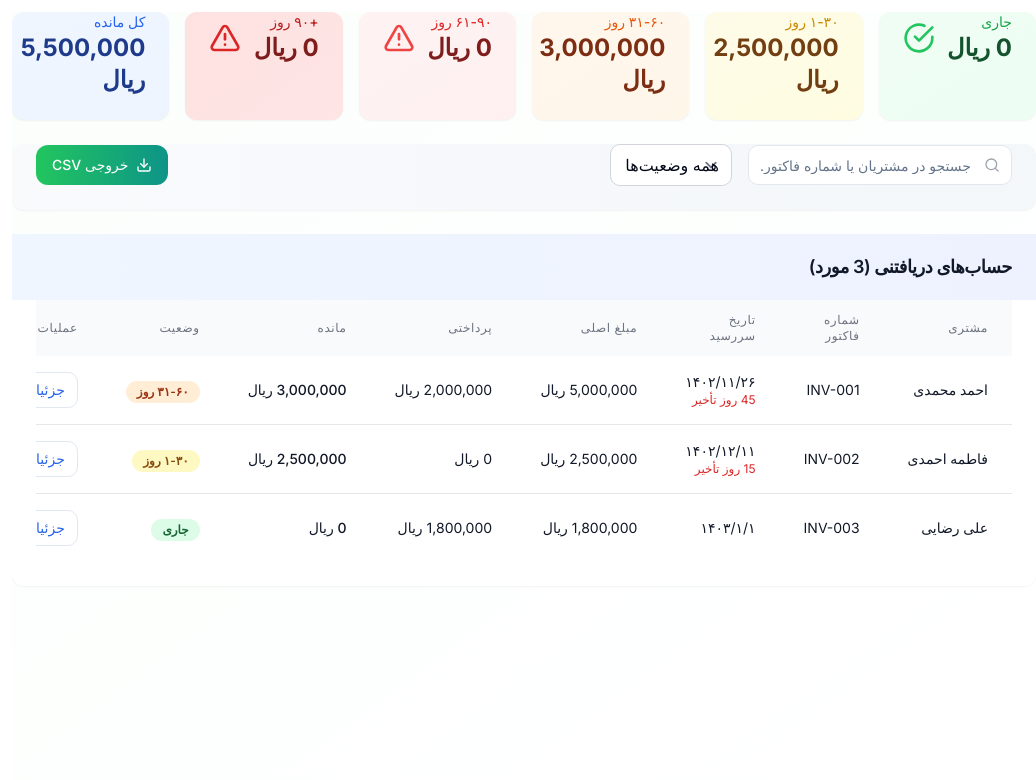
AccountsReceivable Component › filters receivables by status
Expected: the text "احمد محمدی" is shown, left=908, top=380, right=988, bottom=400
Select "۳۱-۶۰ روز" in the dropdown showing "همه وضعیت‌ها" at (671, 165), box left=610, top=144, right=732, bottom=186
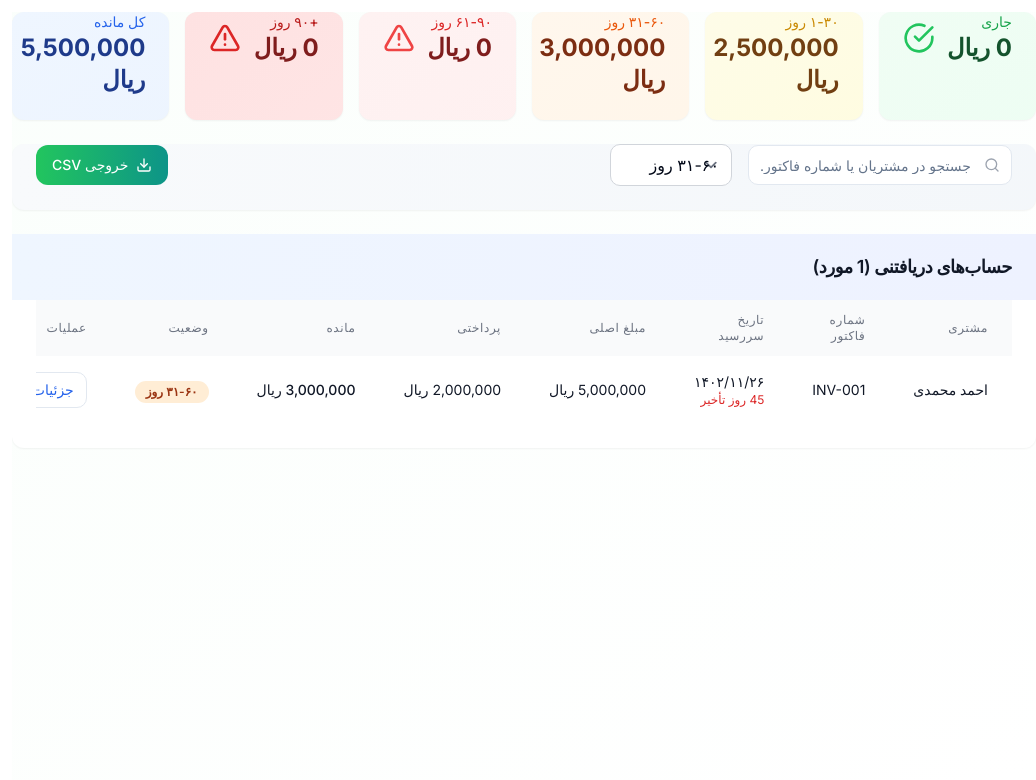
Expected: the text "احمد محمدی" is shown, left=913, top=380, right=988, bottom=400
Now the text "فاطمه احمدی" is gone
